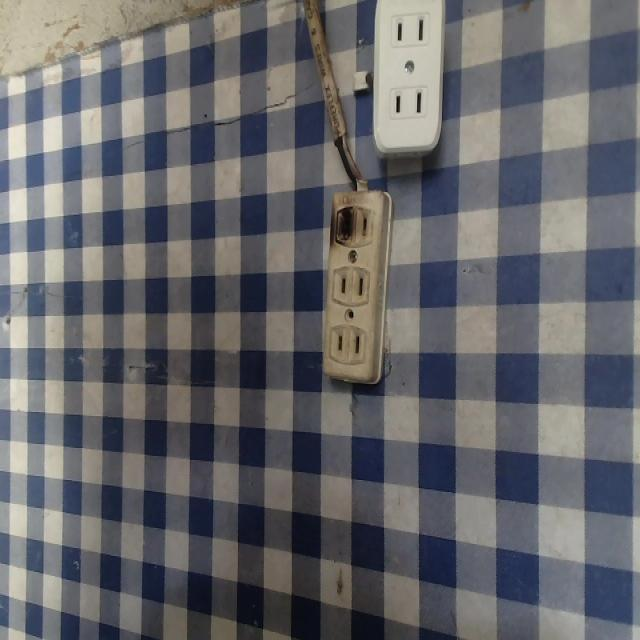-: (329, 197, 356, 247)
